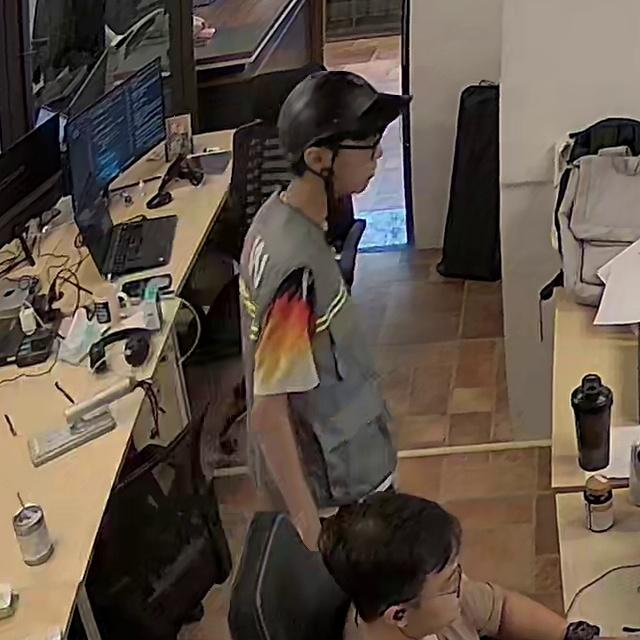helmet: (277, 70, 412, 161)
no_helmet: (323, 491, 460, 622)
none: (354, 576, 520, 640)
vest: (237, 186, 394, 516)
